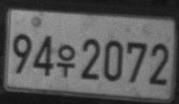0: (102, 39, 124, 81)
2: (148, 42, 169, 84), (80, 38, 100, 80)
4: (33, 35, 55, 77)
7: (126, 41, 148, 83)
9: (12, 32, 32, 74)
우: (56, 43, 76, 78)
